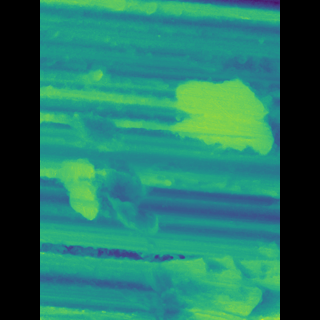Loch: (68, 63, 162, 239), (121, 252, 239, 319), (161, 72, 250, 159), (68, 158, 118, 226)
